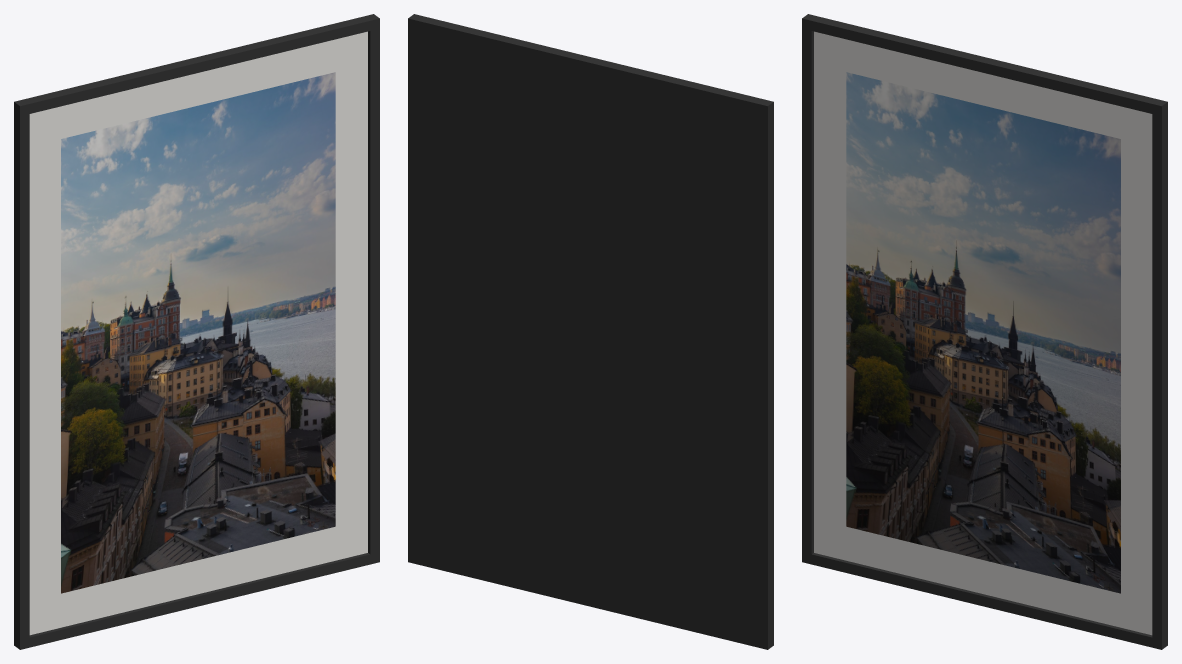
File: over-soder-90.gltf
The picture shows the model from 3 angles, left to right: view 1: azimuth 30°, elevation 25°; view 2: azimuth 150°, elevation 25°; view 3: azimuth 330°, elevation 25°; orthographic projection.
Parts seen in each view (by area): view 1: tavla; view 2: tavla; view 3: tavla.
Part boxes in pixels (left/top/right/bottom): tavla: left=14, top=14, right=379, bottom=649; tavla: left=408, top=14, right=773, bottom=649; tavla: left=802, top=14, right=1167, bottom=649.
Size of the model in its own units: 0.7456 by 1.08 by 0.022.
3 materials, 1 textured.
